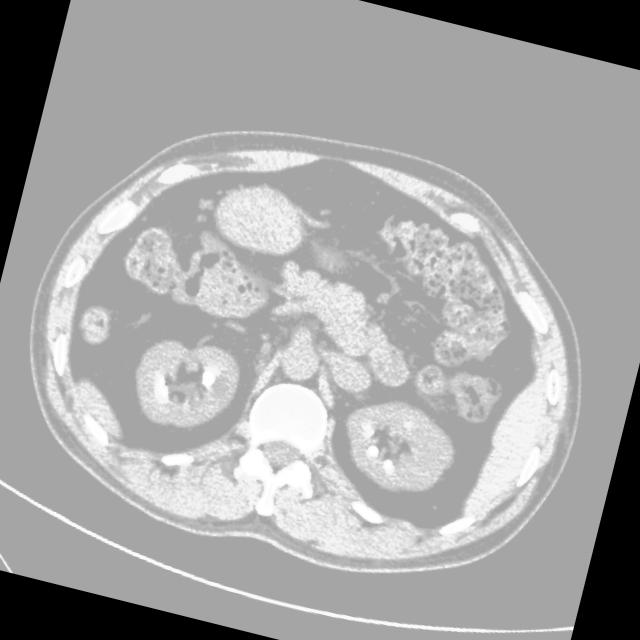STONE: (109, 266, 478, 509)
